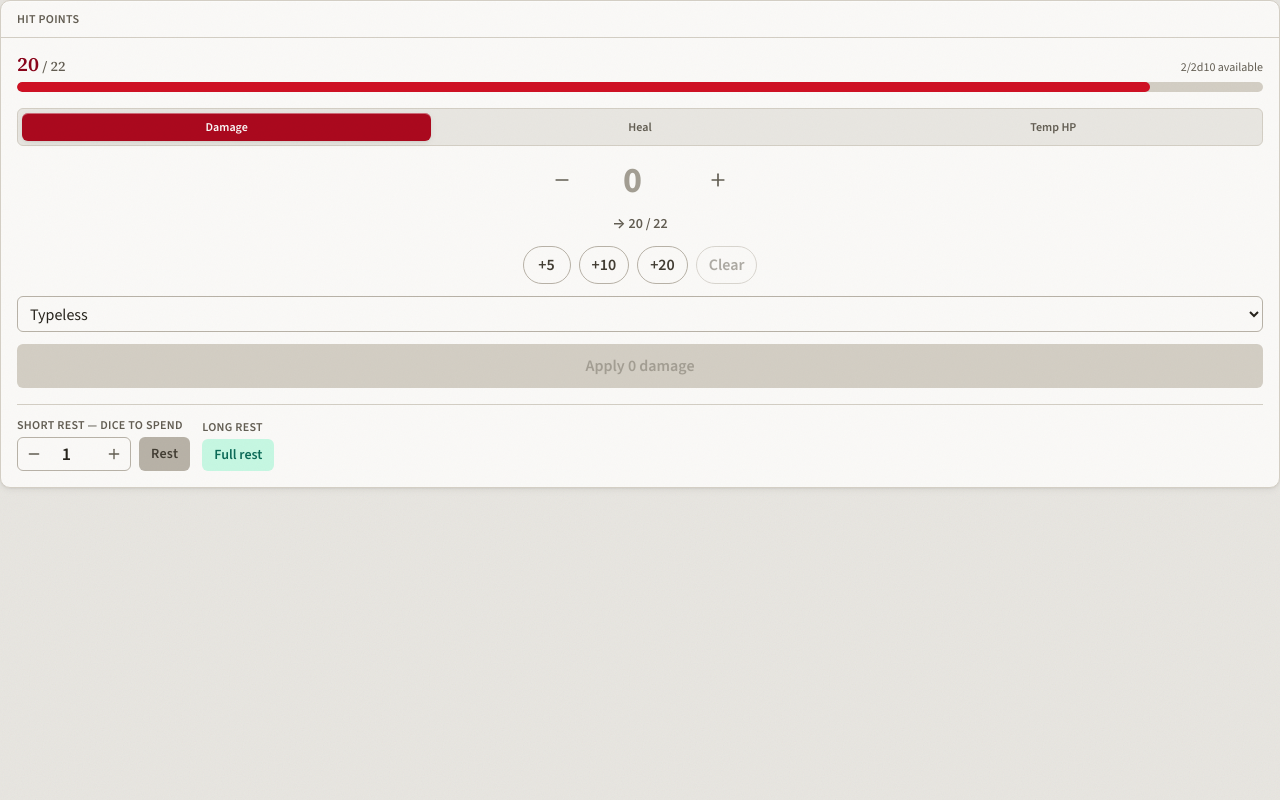
it: HitPointTracker segmented action control (issue #225) › the stepper +/- adjusts the shared amount
What coordinates should you click on to do the following:
click the button named "increase amount"
I would click on:
 (718, 180)
Its box is [696,158,740,202].
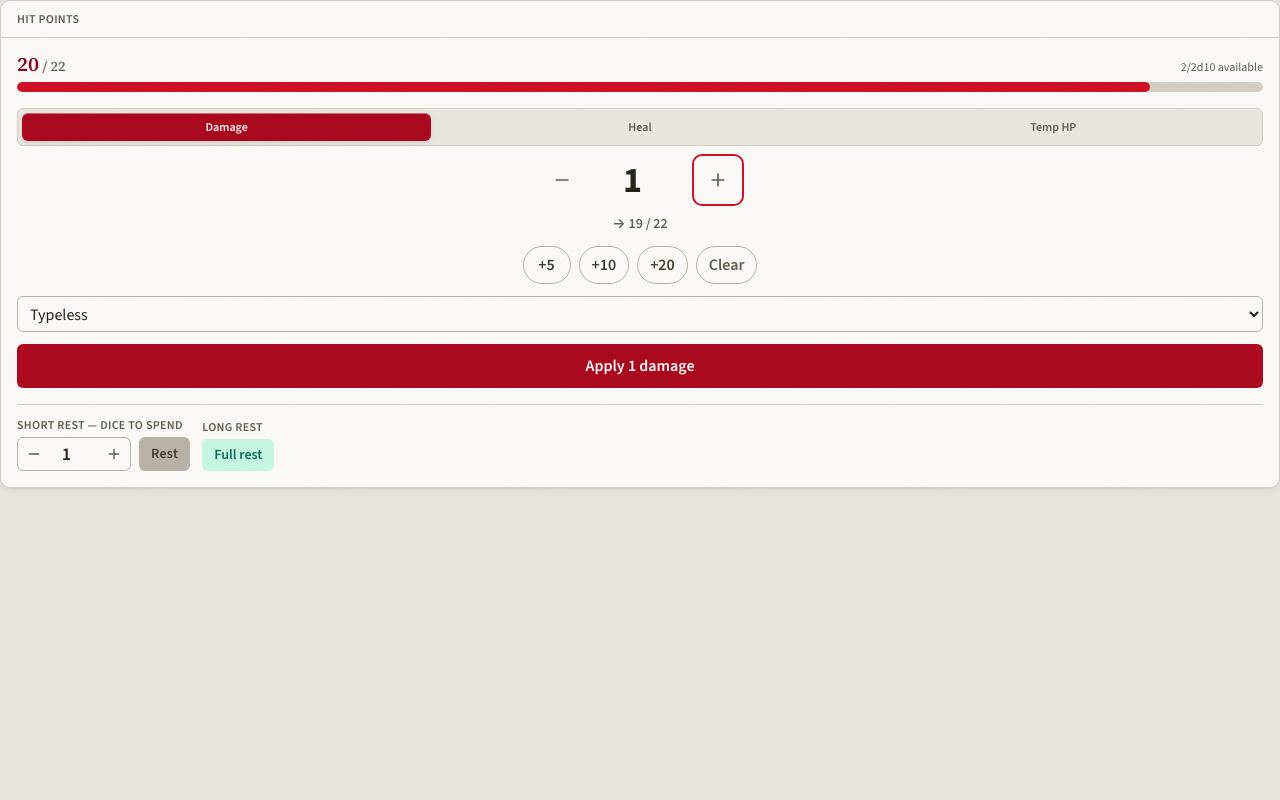
What coordinates should you click on to do the following:
click the button named "increase amount"
I would click on:
 (718, 180)
Its box is [696,158,740,202].
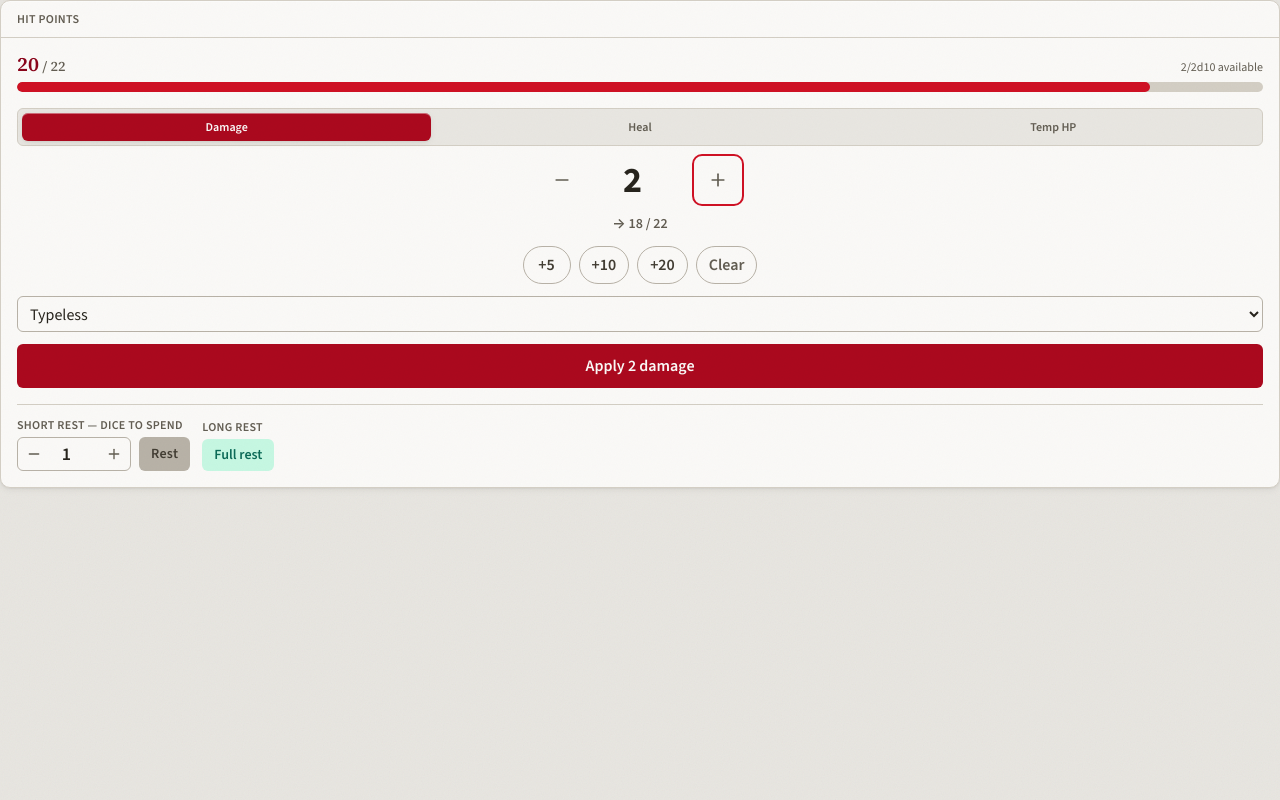
Check: the number field named "damage amount" holds "2", box [592,160,688,200]
What coordinates should you click on to do the following:
click the button named "decrease amount"
I would click on:
 (562, 180)
Its box is [540,158,584,202].
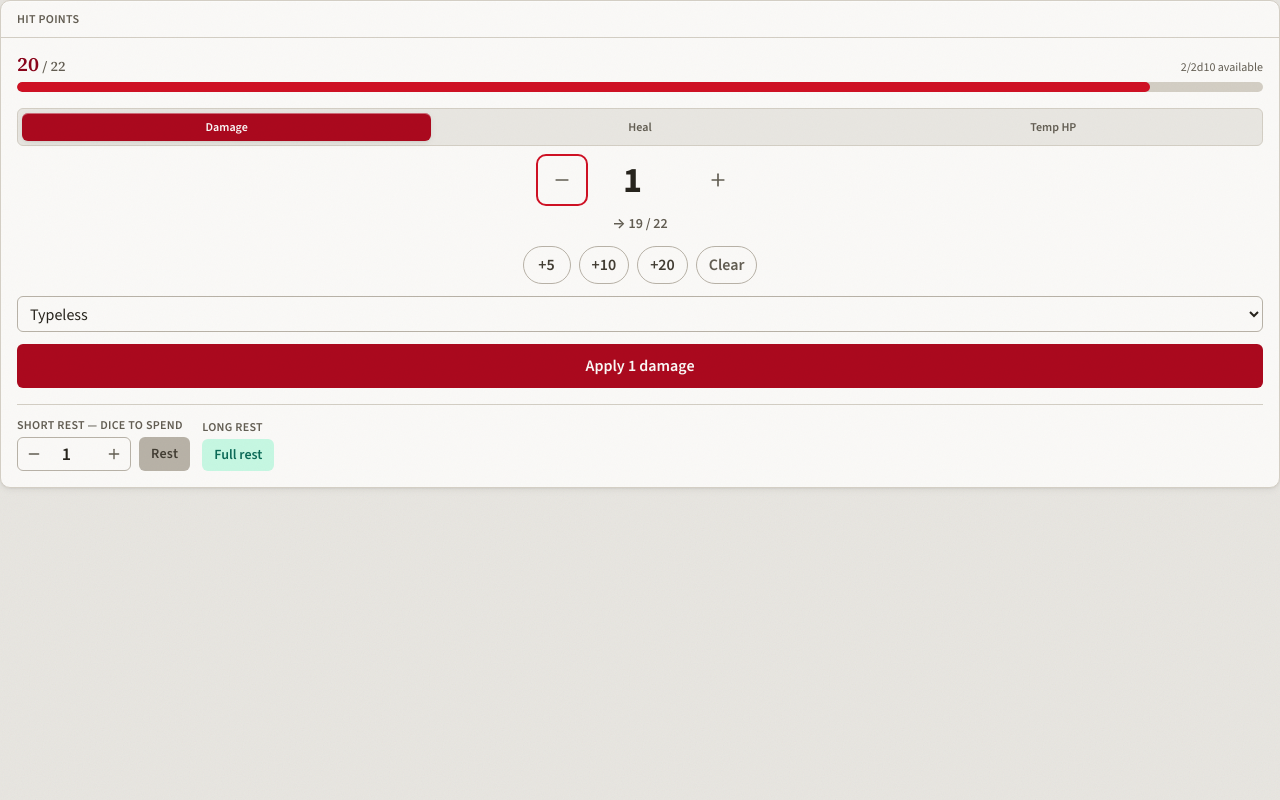
Check: the number field named "damage amount" holds "1", box [592,160,688,200]
